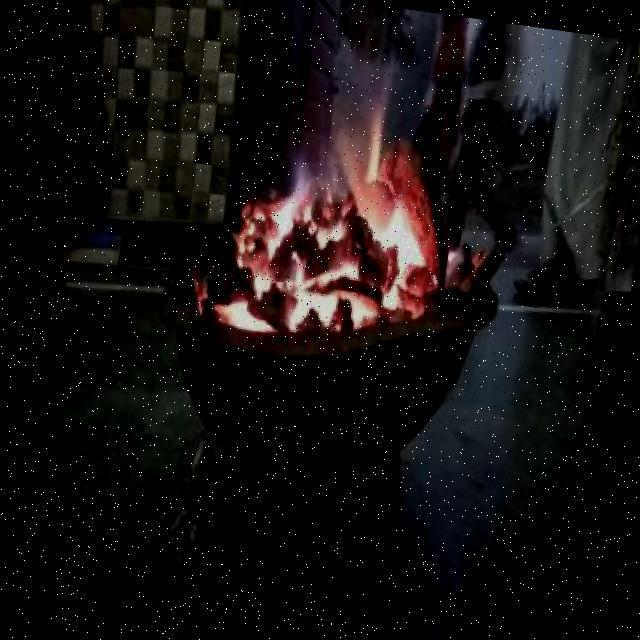fire: (199, 74, 462, 367)
